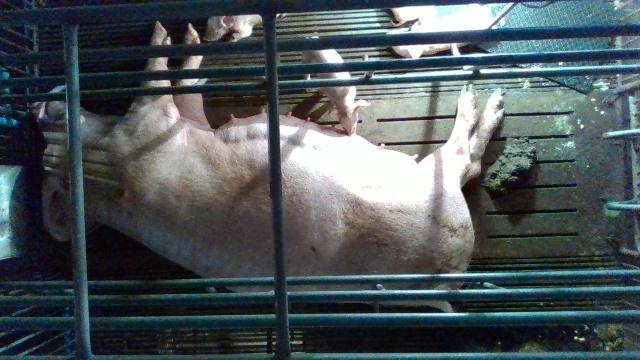piglet: (386, 3, 500, 60), (303, 50, 371, 134), (202, 10, 288, 45)
sow-sleep-lactate: (32, 20, 505, 314)
